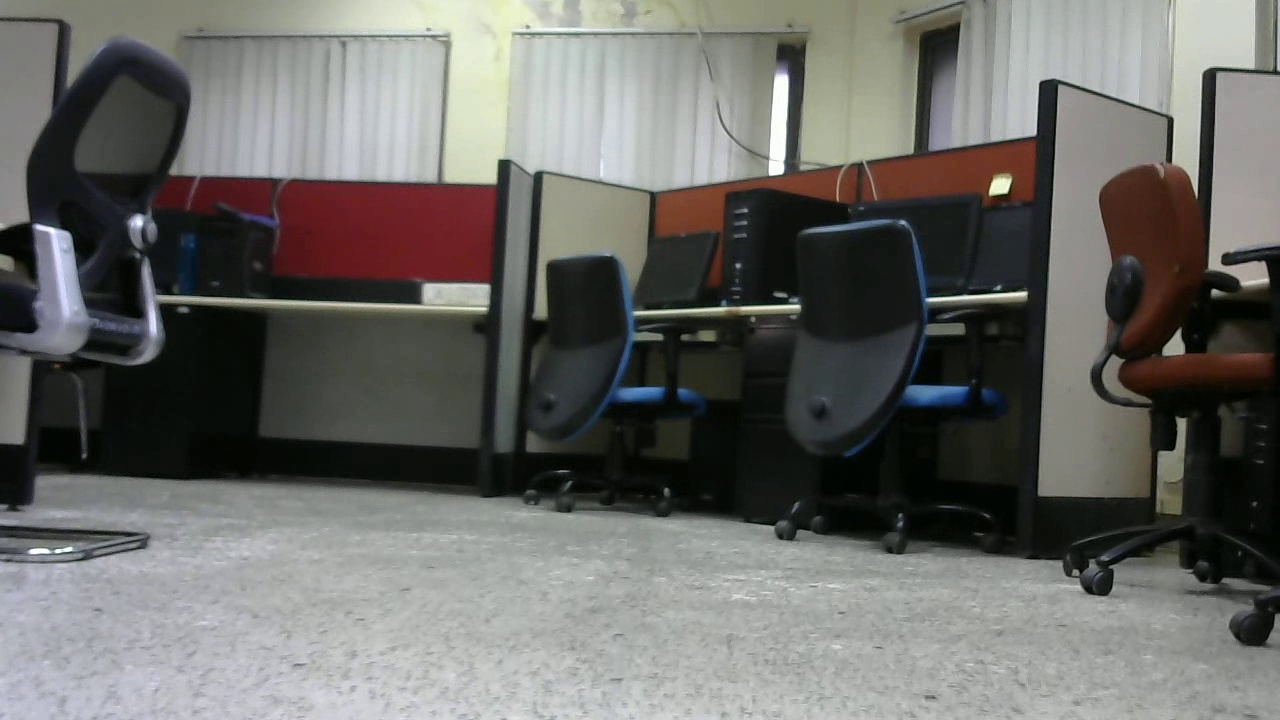chair: (1, 30, 224, 563), (1072, 148, 1280, 602), (759, 218, 1036, 555), (500, 227, 729, 519)
